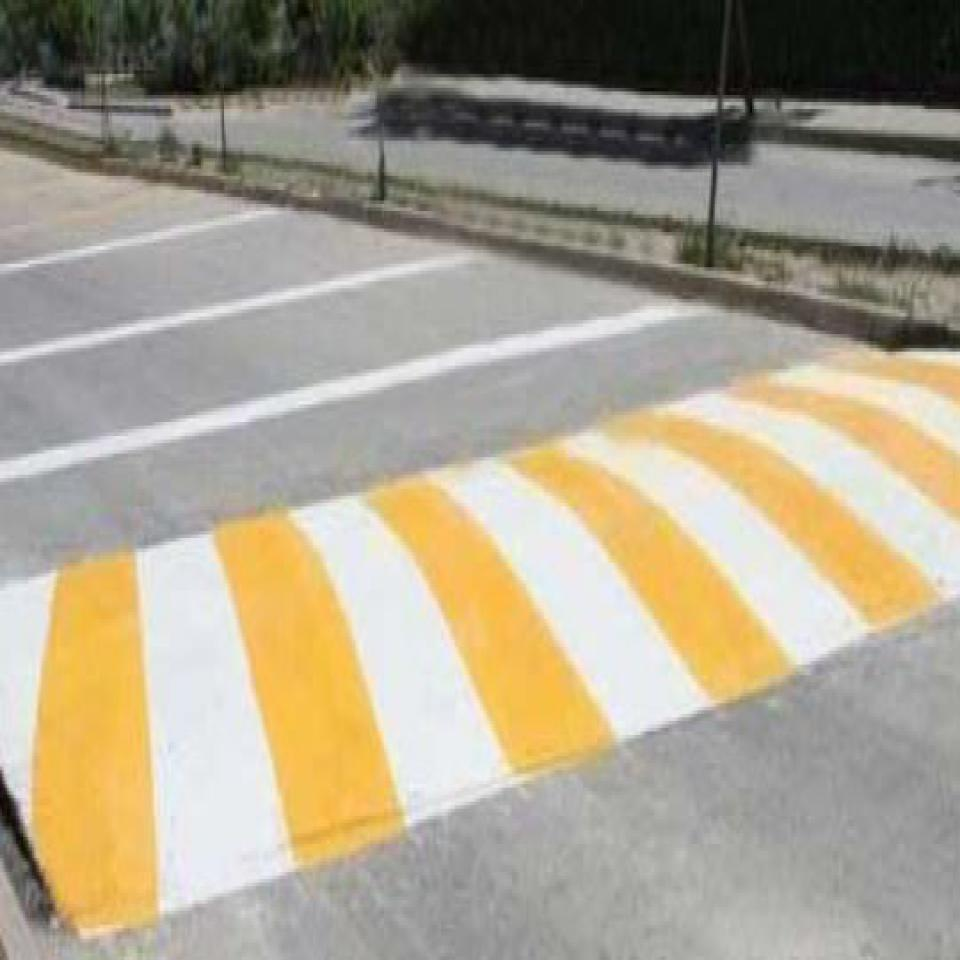speedbreaker: (10, 534, 410, 882), (423, 426, 693, 760), (712, 295, 956, 633)
